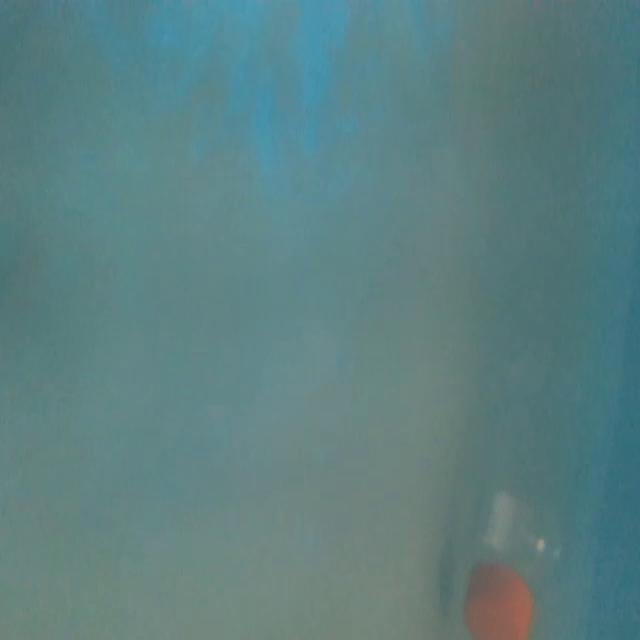plastic bottle: (457, 318, 588, 640)
